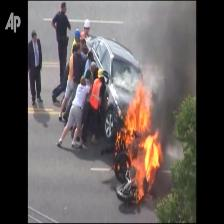fire: (116, 81, 162, 200)
